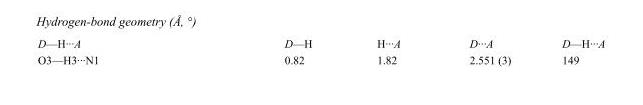table: (37, 36, 604, 65)
table column: (37, 36, 191, 65), (191, 36, 343, 65), (434, 36, 535, 65), (343, 36, 434, 65), (535, 36, 604, 65)
table row: (37, 36, 604, 51), (37, 51, 604, 65)
